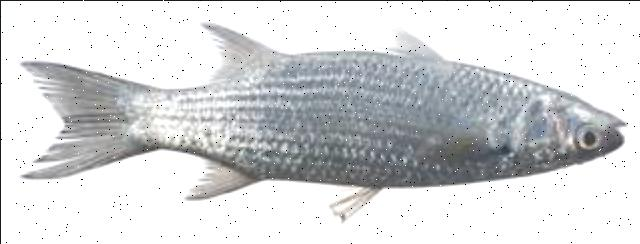Mulut: (596, 98, 634, 168)
Sirip Anal: (184, 18, 280, 94)
Sirip Dada: (400, 117, 504, 166)
Sirip Ekor: (12, 54, 136, 188)
Sirip Perut: (374, 16, 448, 72)
Sirip Punggung: (179, 160, 391, 232)
